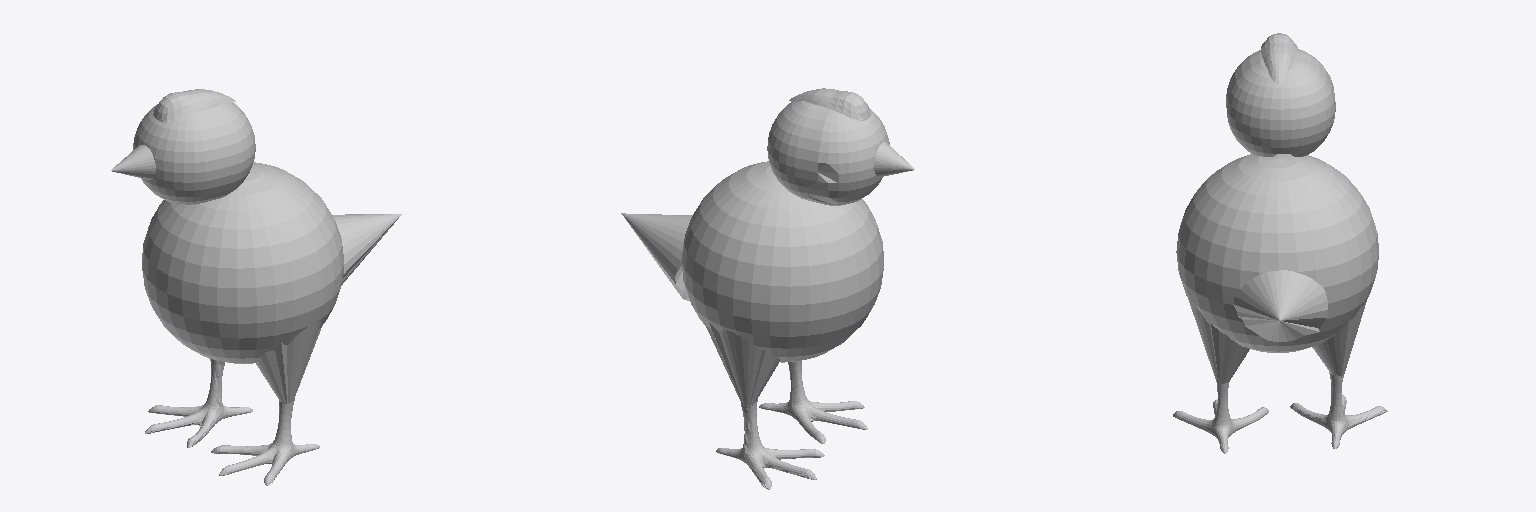
The model's file is Chicken-res.obj.
3 renders of one model, left to right at view 1: azimuth 30°, elevation 25°; view 2: azimuth 150°, elevation 25°; view 3: azimuth 270°, elevation 25°, orthographic.
Visible parts, largest first — view 1: Sphere.027, Sphere.026, Cone.034, Line001.000_Line001.009, Line001.001_Line001.009, Cone.035, Line001.002_Line001.002, Cone.033; view 2: Sphere.027, Sphere.026, Cone.000_Cone.010, Cone.035, Line001.001_Line001.009, Line001.000_Line001.009, Line001.002_Line001.002, Cone.033; view 3: Sphere.027, Sphere.026, Cone.035, Cone.034, Line001.001_Line001.009, Line001.000_Line001.009, Cone.000_Cone.010, Line001.002_Line001.002.
Part boxes in pixels (left/top/right/bottom): Sphere.027: left=142, top=162, right=343, bottom=363; Sphere.026: left=133, top=102, right=255, bottom=204; Cone.034: left=256, top=307, right=322, bottom=404; Line001.000_Line001.009: left=211, top=397, right=319, bottom=485; Line001.001_Line001.009: left=145, top=359, right=252, bottom=447; Cone.035: left=332, top=214, right=401, bottom=284; Line001.002_Line001.002: left=152, top=89, right=235, bottom=122; Cone.033: left=111, top=145, right=155, bottom=179; Sphere.027: left=682, top=161, right=883, bottom=362; Sphere.026: left=767, top=101, right=889, bottom=205; Cone.000_Cone.010: left=706, top=323, right=779, bottom=408; Cone.035: left=621, top=213, right=692, bottom=300; Line001.001_Line001.009: left=716, top=399, right=824, bottom=489; Line001.000_Line001.009: left=759, top=361, right=867, bottom=443; Line001.002_Line001.002: left=789, top=88, right=872, bottom=121; Cone.033: left=874, top=142, right=914, bottom=177; Sphere.027: left=1176, top=154, right=1378, bottom=352; Sphere.026: left=1226, top=49, right=1335, bottom=156; Cone.035: left=1233, top=270, right=1327, bottom=341; Cone.034: left=1182, top=281, right=1249, bottom=383; Line001.001_Line001.009: left=1290, top=371, right=1387, bottom=448; Line001.000_Line001.009: left=1173, top=378, right=1268, bottom=453; Cone.000_Cone.010: left=1312, top=300, right=1366, bottom=376; Line001.002_Line001.002: left=1261, top=33, right=1297, bottom=84.
Bounding box in the file's own units: 4.08 × 4.83 × 2.59.